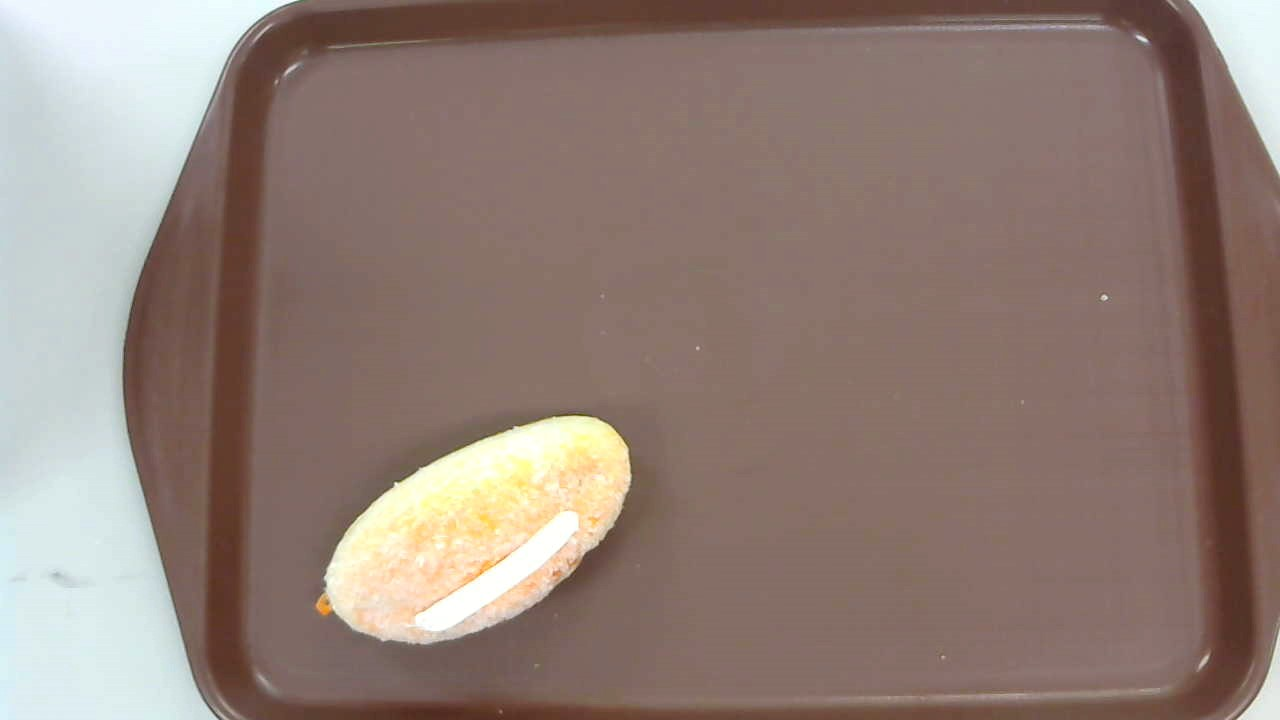coconut: (316, 415, 633, 648)
